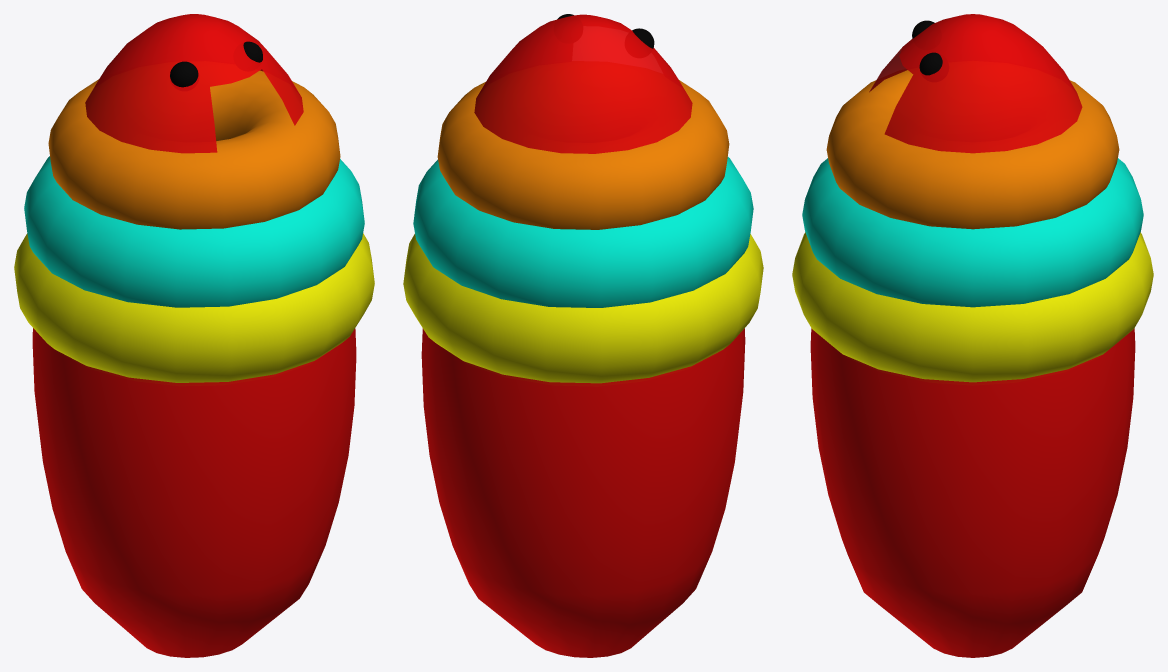
File: Player Pawn.fbx
3 views of the same model, side by side, from view 1: azimuth 30°, elevation 25°; view 2: azimuth 150°, elevation 25°; view 3: azimuth 270°, elevation 25° (orthographic).
Visible parts, largest first — view 1: pSphere1, pTorus1, pasted__pTorus1, pasted__pasted__pTorus1, pSphere2; view 2: pSphere1, pasted__pTorus1, pasted__pasted__pTorus1, pTorus1; view 3: pSphere1, pasted__pTorus1, pasted__pasted__pTorus1, pTorus1.
Boxes of the visible parts, x1,y1,x2,y2 form: pSphere1: [32, 14, 356, 657]; pTorus1: [48, 70, 340, 229]; pasted__pTorus1: [24, 156, 364, 307]; pasted__pasted__pTorus1: [14, 233, 374, 382]; pSphere2: [170, 61, 198, 87]; pSphere1: [421, 14, 745, 657]; pasted__pTorus1: [413, 157, 753, 307]; pasted__pasted__pTorus1: [403, 234, 763, 383]; pTorus1: [437, 80, 729, 229]; pSphere1: [810, 14, 1135, 657]; pasted__pTorus1: [802, 158, 1143, 307]; pasted__pasted__pTorus1: [792, 232, 1153, 382]; pTorus1: [826, 70, 1119, 229].
Size of the model in its own units: 1.14 by 2.13 by 1.14.
